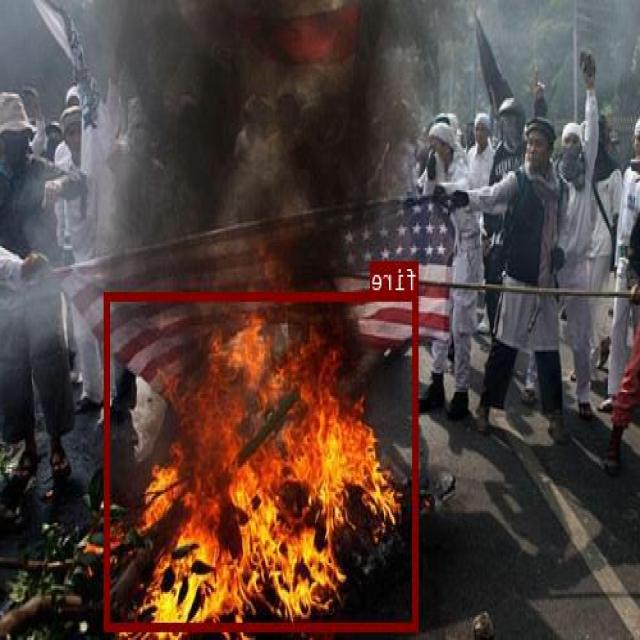fire: (106, 291, 419, 630)
